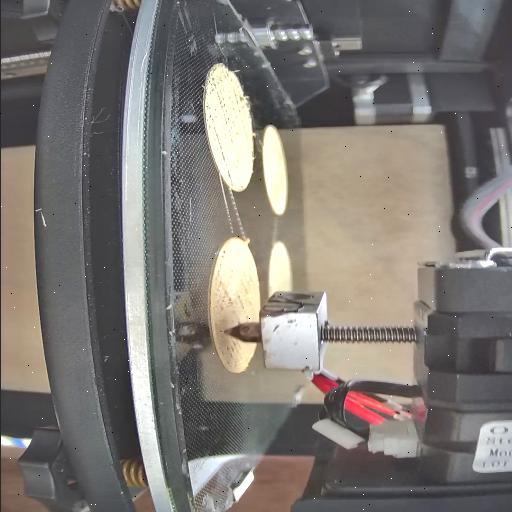under_extrusion: (204, 68, 254, 164), (212, 270, 257, 320), (220, 337, 250, 369), (214, 240, 232, 266), (220, 166, 239, 188)
